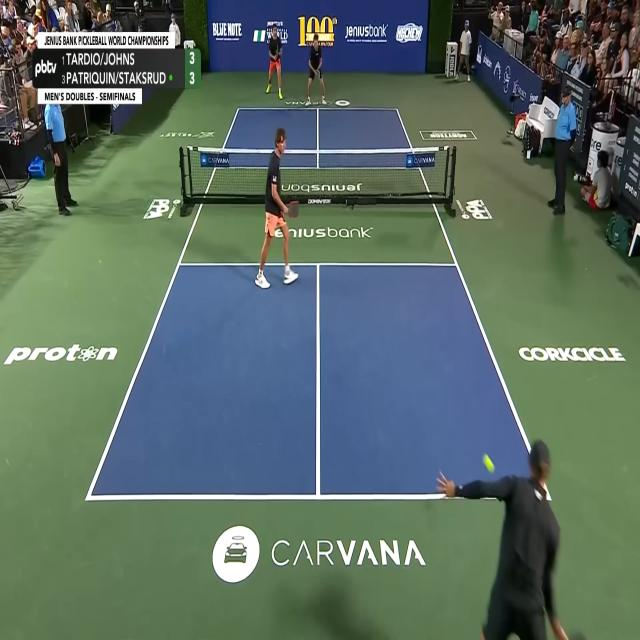ball: (482, 452, 496, 475)
